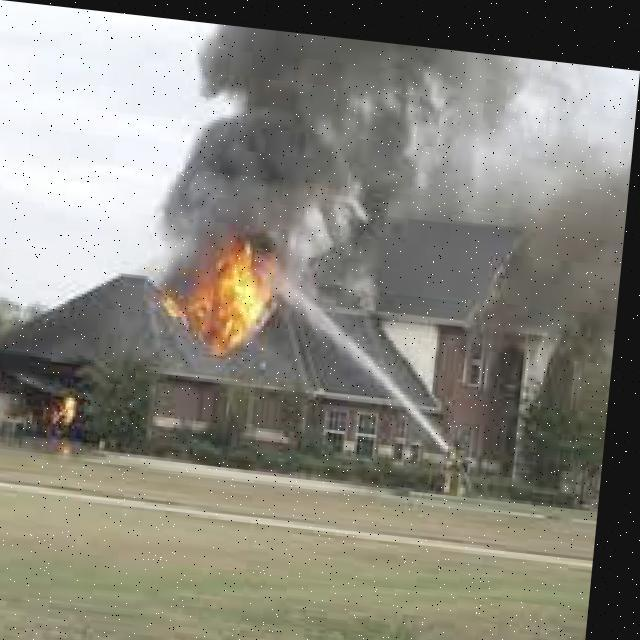Fire: (159, 208, 296, 346), (52, 378, 100, 452)
